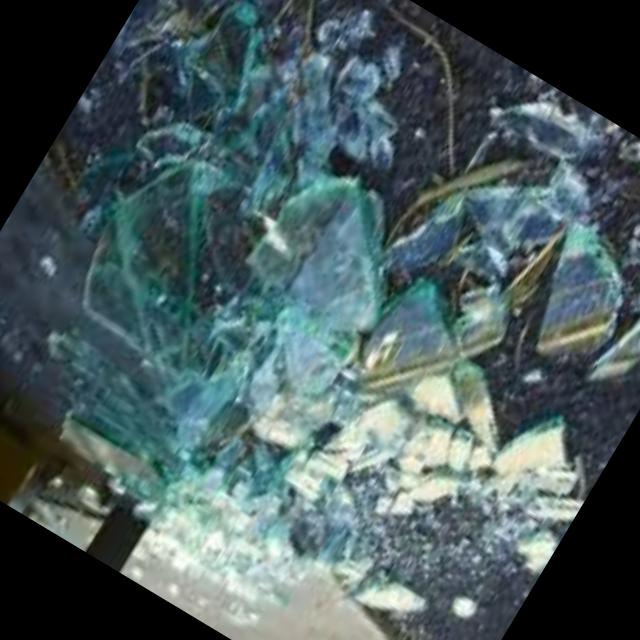PecahanKaca: (0, 0, 640, 640), (224, 146, 438, 367)
